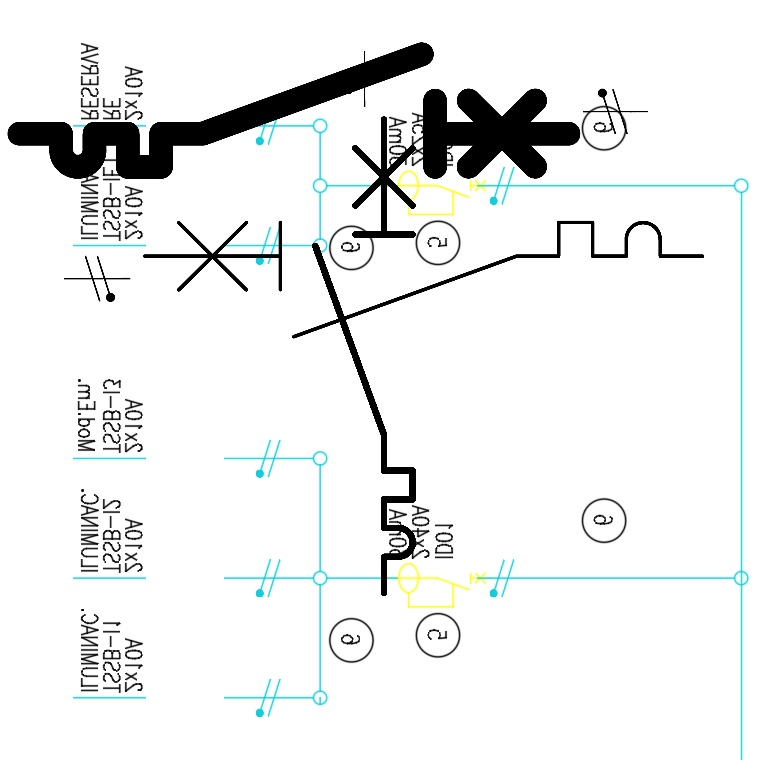interruptor_termomagnetico: (130, 208, 716, 351), (5, 40, 583, 181), (303, 107, 425, 605)
